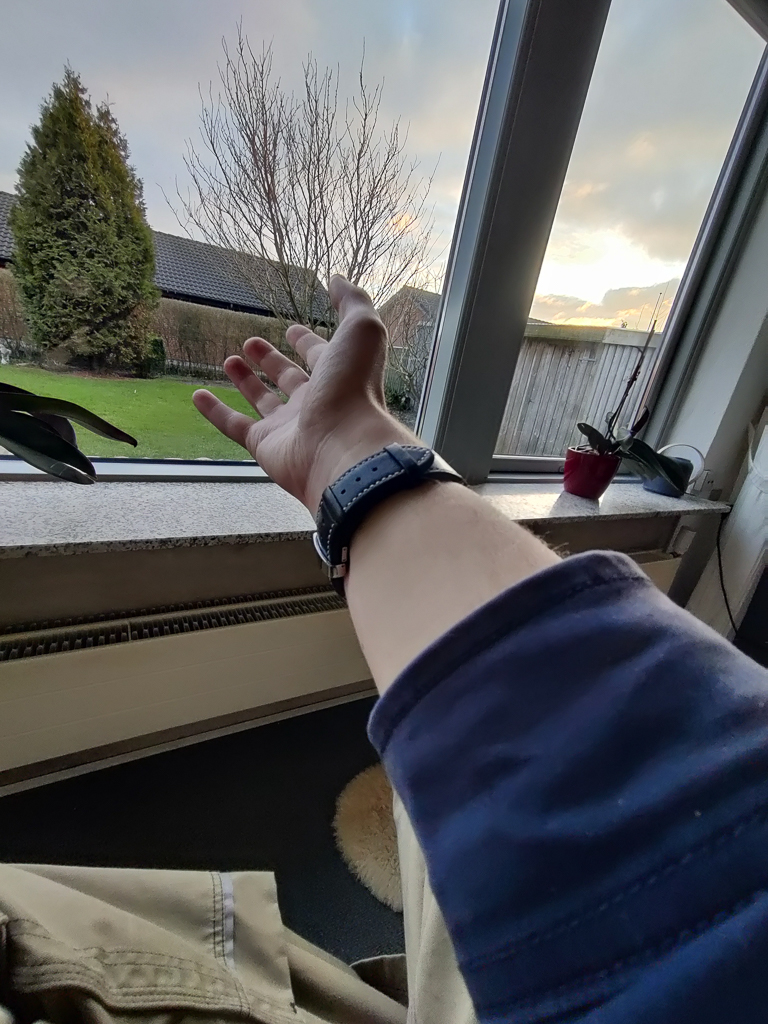Eagle: (0, 342, 15, 367)
Humanoid: (0, 260, 768, 1024)
